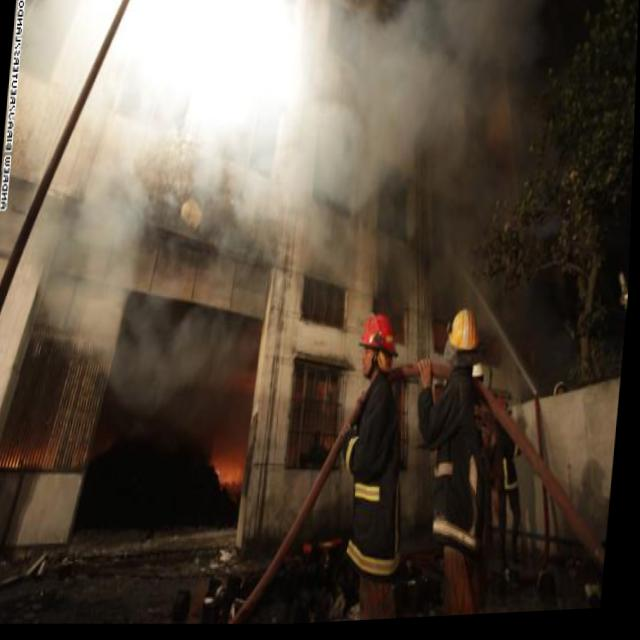fire: (213, 447, 252, 491), (0, 449, 52, 470)
